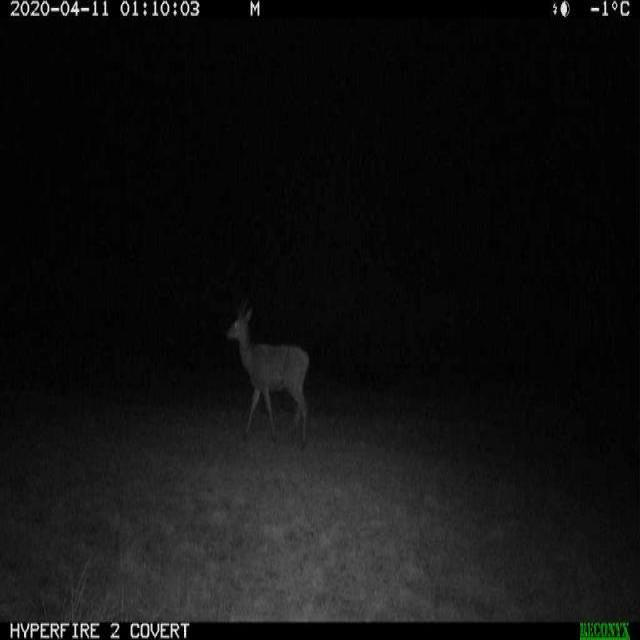deer: (212, 287, 321, 466)
